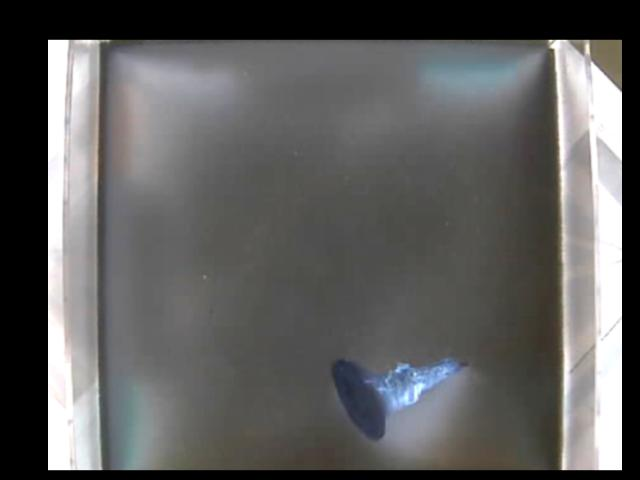Mooli: (332, 357, 466, 444)
